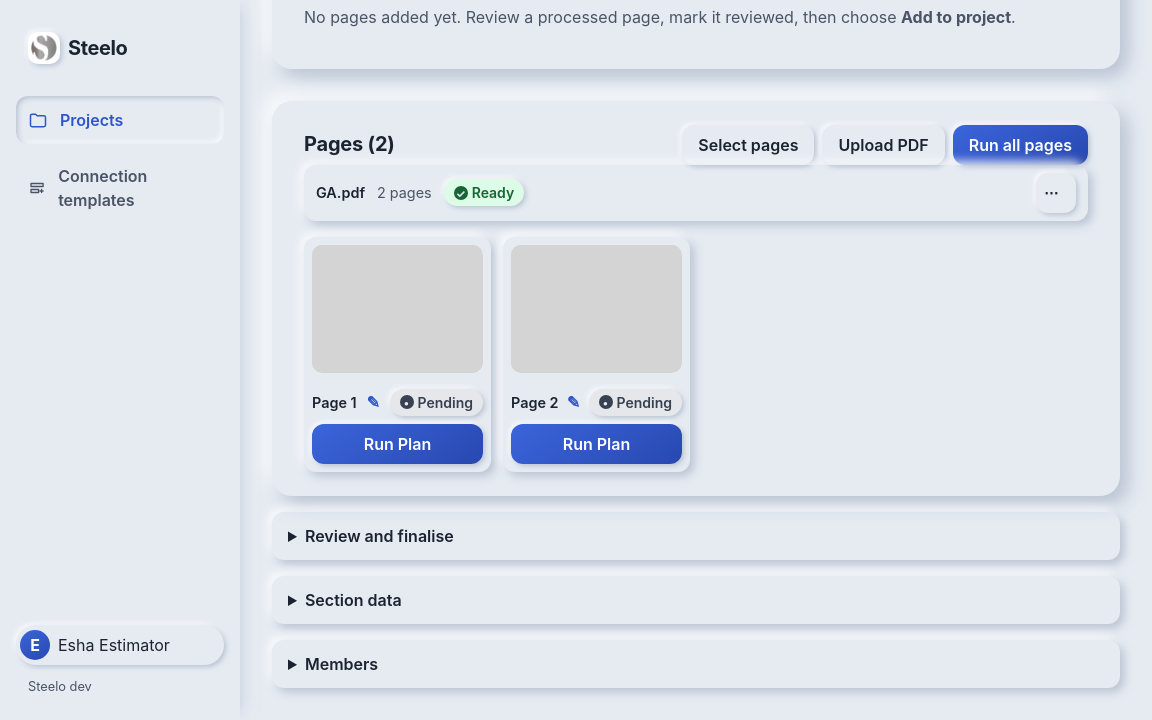
Test case: Run Plan › processes a page and shows the result with its status
(page scrolled)
Click the button with aria-label "Run Plan — page 1" at coordinates (398, 444), box [312,424,483,464]
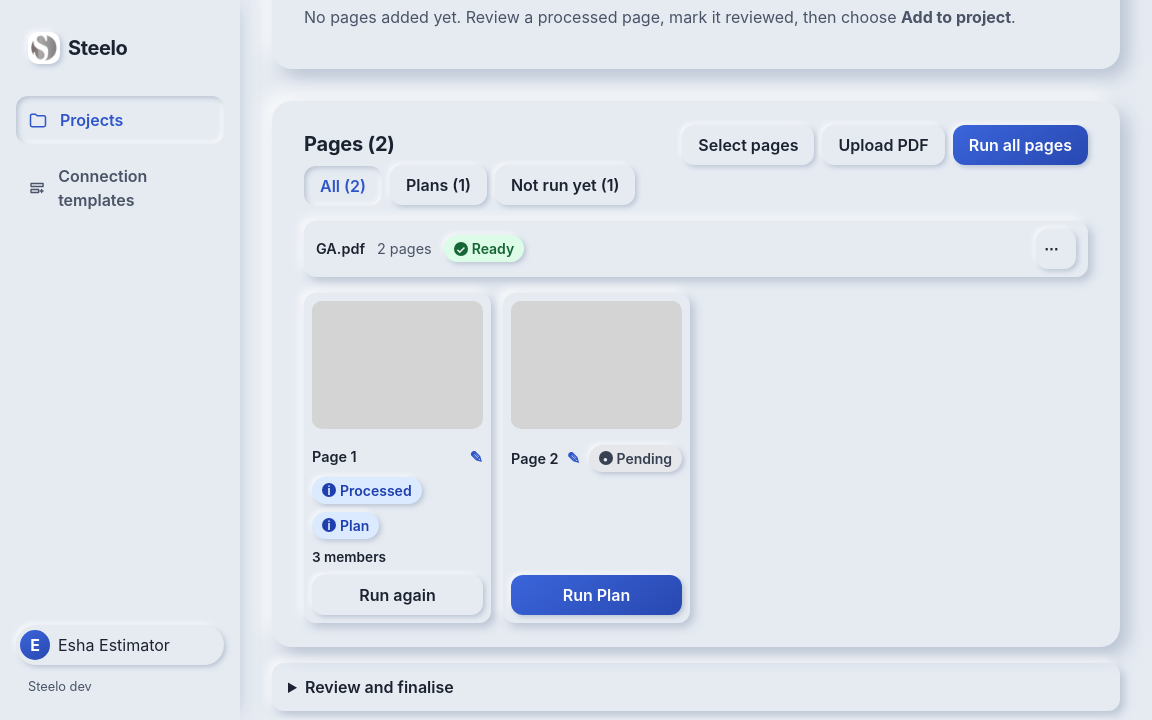
expect the text "Pending" is shown: met, box [616,450,672,467]
expect the text "3 members" is shown: met, box [312,549,386,565]
expect the text "Processed" is shown: met, box [340,482,412,499]
